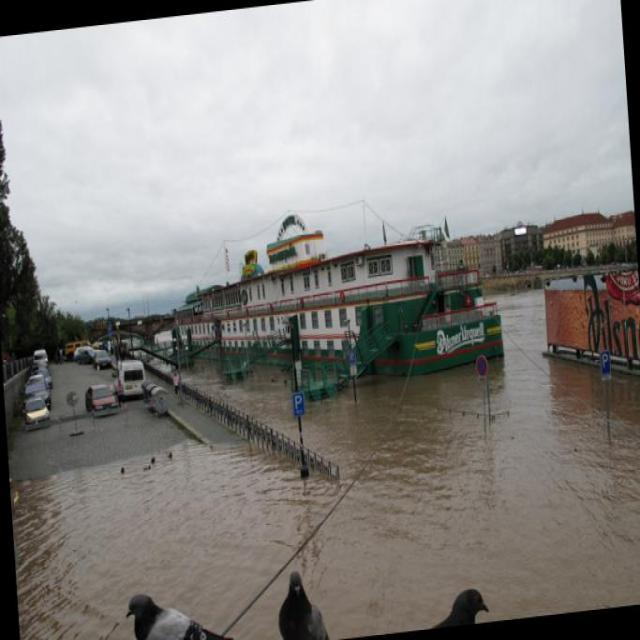flood: (8, 374, 639, 639)
